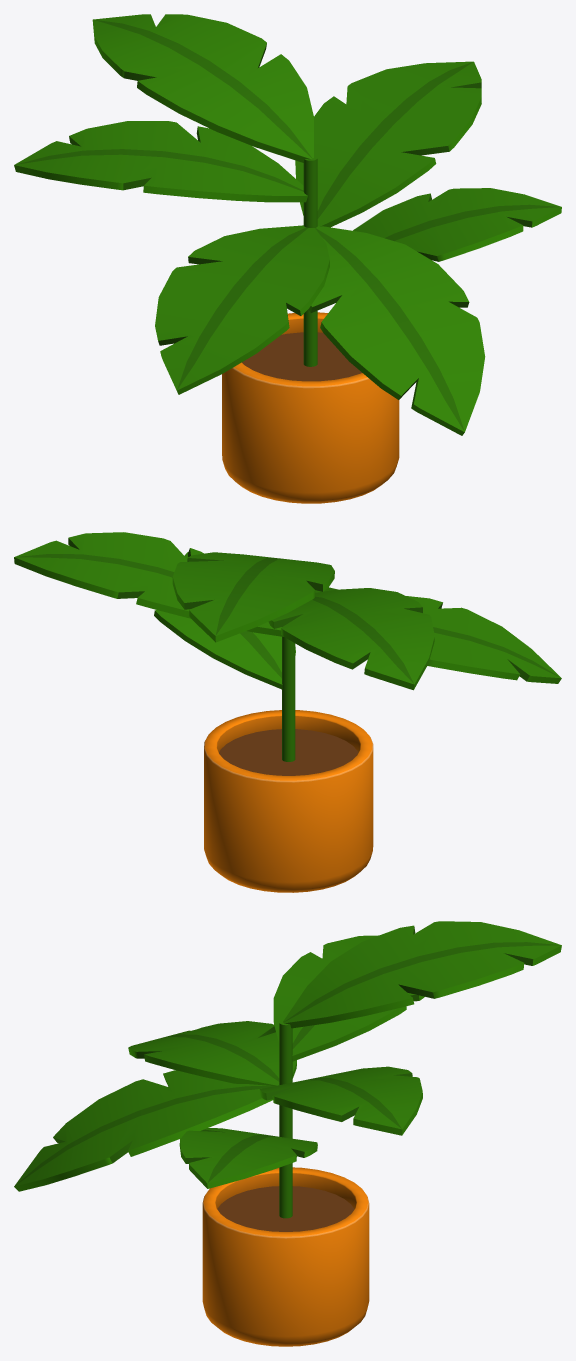
The model's file is Plant.fbx.
3 views of the same model, one above another, from view 1: azimuth 30°, elevation 25°; view 2: azimuth 150°, elevation 25°; view 3: azimuth 270°, elevation 25° (orthographic). The views are drawn at different scales.
Visible parts, largest first — view 1: Vase, Leaf, Leaf.001, Leaf.003, Leaf.004, Leaf.002, Leaf.005, Leaf.006; view 2: Vase, Leaf.002, Leaf.001, Leaf.004, Leaf.003, Leaf.005, Leaf.006; view 3: Vase, Leaf.001, Leaf, Leaf.004, Leaf.003, Leaf.005, Leaf.002, Leaf.006.
Part boxes in pixels (x1,y1,x2,y2): Vase: [222, 312, 399, 503]; Leaf: [308, 226, 485, 435]; Leaf.001: [92, 14, 313, 162]; Leaf.003: [155, 225, 329, 394]; Leaf.004: [295, 61, 481, 227]; Leaf.002: [14, 121, 307, 202]; Leaf.005: [353, 188, 561, 261]; Leaf.006: [303, 155, 317, 366]; Vase: [204, 710, 373, 892]; Leaf.002: [268, 588, 434, 690]; Leaf.001: [172, 552, 334, 642]; Leaf.004: [14, 532, 283, 636]; Leaf.003: [406, 596, 561, 683]; Leaf.005: [154, 552, 295, 689]; Leaf.006: [282, 636, 295, 761]; Vase: [202, 1167, 369, 1346]; Leaf.001: [283, 921, 561, 1028]; Leaf: [14, 1070, 274, 1191]; Leaf.004: [259, 1066, 422, 1135]; Leaf.003: [128, 1021, 296, 1085]; Leaf.005: [179, 1128, 317, 1188]; Leaf.002: [273, 935, 424, 1061]; Leaf.006: [279, 1019, 292, 1218].
Size of the model in its own units: 230 by 186 by 265.
